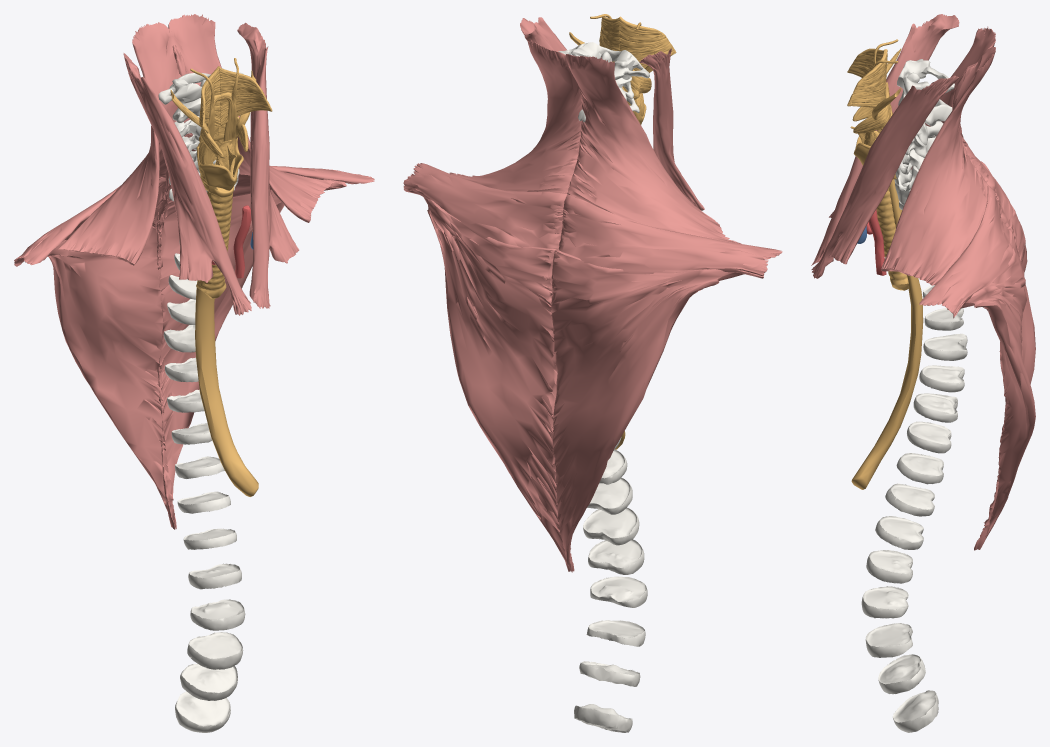
Rendered from pescoco.glb.
3 renders of one model, left to right at view 1: azimuth 30°, elevation 25°; view 2: azimuth 150°, elevation 25°; view 3: azimuth 270°, elevation 25°, orthographic. The views are drawn at different scales.
Parts seen in each view (by area): view 1: trapezio, discos-intervertebrais, esternocleidomastoideo, faringe, esofago, coluna-cervical, traqueia, laringe, carotida-comum; view 2: trapezio, discos-intervertebrais, esternocleidomastoideo, faringe, coluna-cervical; view 3: trapezio, discos-intervertebrais, esternocleidomastoideo, esofago, faringe, coluna-cervical, traqueia, carotida-comum, laringe.
Boxes of the visible parts, left/top/right/bottom form: trapezio: left=14, top=14, right=374, bottom=529; discos-intervertebrais: left=163, top=240, right=245, bottom=732; esternocleidomastoideo: left=123, top=22, right=299, bottom=315; faringe: left=170, top=58, right=272, bottom=190; esofago: left=195, top=191, right=258, bottom=496; coluna-cervical: left=158, top=68, right=243, bottom=201; traqueia: left=196, top=187, right=232, bottom=298; laringe: left=196, top=137, right=243, bottom=197; carotida-comum: left=212, top=205, right=251, bottom=278; trapezio: left=403, top=40, right=782, bottom=572; discos-intervertebrais: left=574, top=437, right=647, bottom=732; esternocleidomastoideo: left=520, top=17, right=704, bottom=210; faringe: left=569, top=14, right=676, bottom=124; coluna-cervical: left=558, top=42, right=649, bottom=122; trapezio: left=881, top=26, right=1035, bottom=550; discos-intervertebrais: left=861, top=285, right=967, bottom=732; esternocleidomastoideo: left=811, top=14, right=959, bottom=278; esofago: left=851, top=179, right=923, bottom=489; faringe: left=847, top=39, right=901, bottom=179; coluna-cervical: left=894, top=59, right=954, bottom=209; traqueia: left=876, top=187, right=908, bottom=290; carotida-comum: left=866, top=209, right=886, bottom=275; laringe: left=850, top=126, right=879, bottom=165.
Bounding box in the file's own units: 0.3265 × 0.6114 × 0.1815.
